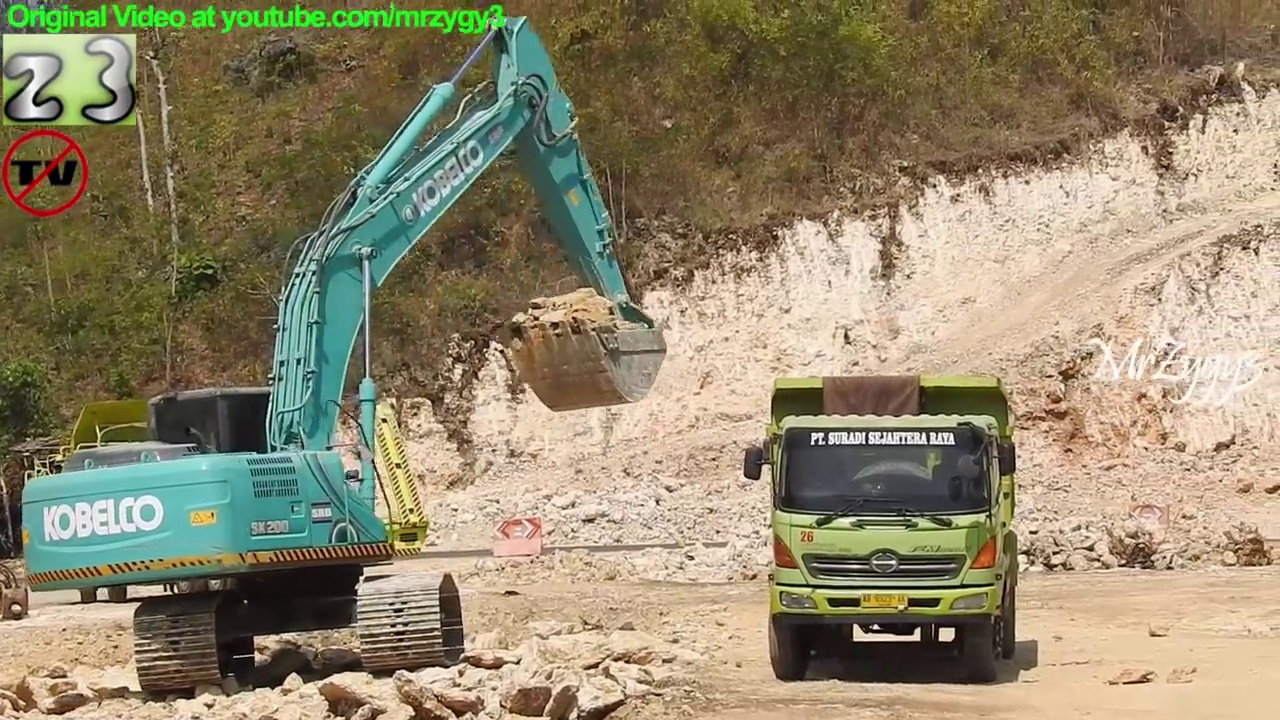excavator: (15, 13, 674, 705)
truck: (13, 385, 433, 606), (743, 375, 1019, 683)
